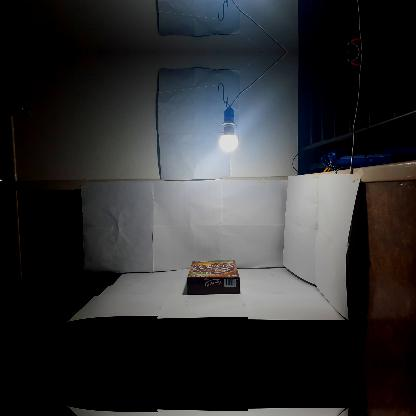Koko-Krunch: (187, 260, 239, 294)
